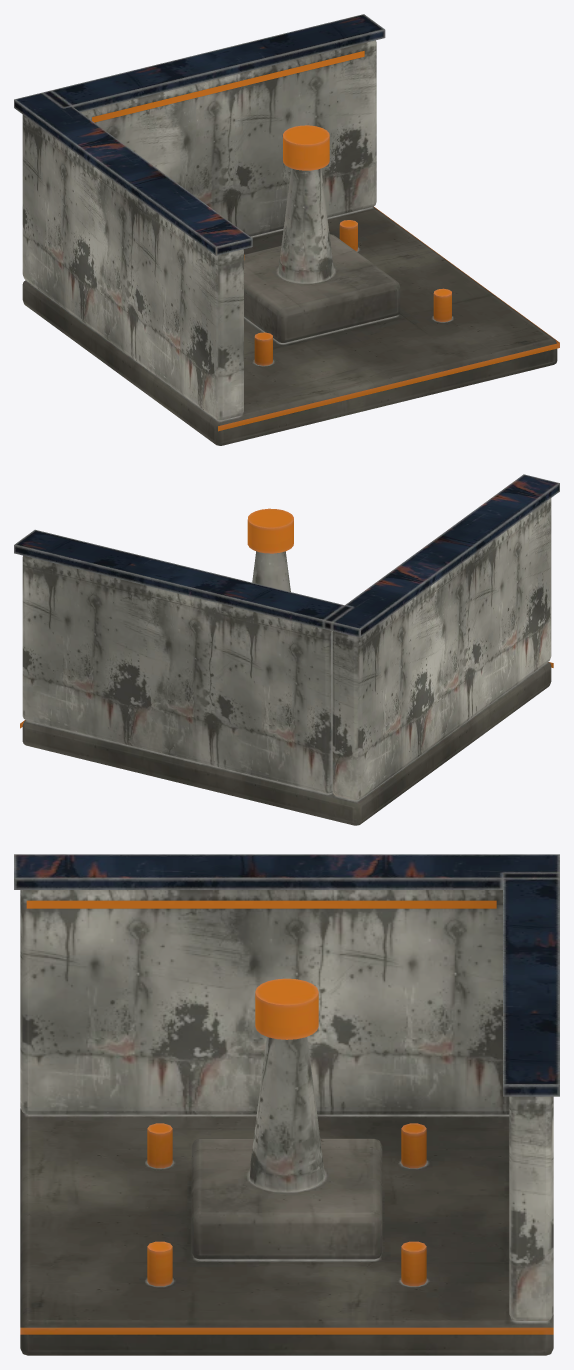
Rendered from gallery.glb.
3 renders of one model, top to bottom at view 1: azimuth 30°, elevation 25°; view 2: azimuth 150°, elevation 25°; view 3: azimuth 270°, elevation 25°, orthographic. The views are drawn at different scales.
Visible parts, largest first — view 1: te_gallery; view 2: te_gallery; view 3: te_gallery.
Part boxes in pixels (x1,y1,x2,y2): te_gallery: [14, 14, 559, 445]; te_gallery: [14, 474, 559, 825]; te_gallery: [14, 854, 559, 1355].
Size of the model in its own units: 0.86 by 0.48 by 0.86.
1 material, 1 textured.
